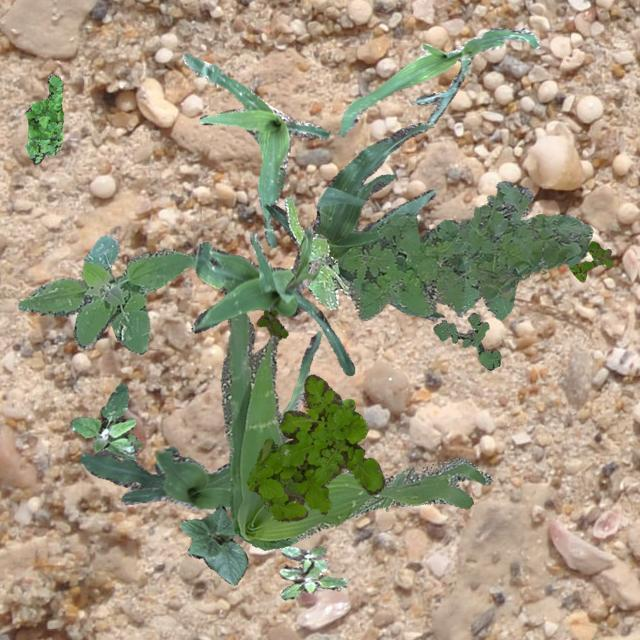crop: (78, 330, 320, 508), (266, 122, 442, 320), (180, 52, 328, 246), (190, 226, 354, 374), (336, 26, 540, 136), (178, 504, 246, 584)
weed: (219, 310, 492, 550), (340, 180, 592, 320), (17, 234, 193, 354), (245, 374, 384, 520), (284, 195, 349, 308), (68, 382, 142, 459), (432, 312, 500, 368), (278, 544, 346, 600), (24, 72, 62, 162), (568, 240, 612, 280), (256, 308, 286, 338), (340, 398, 354, 410)
